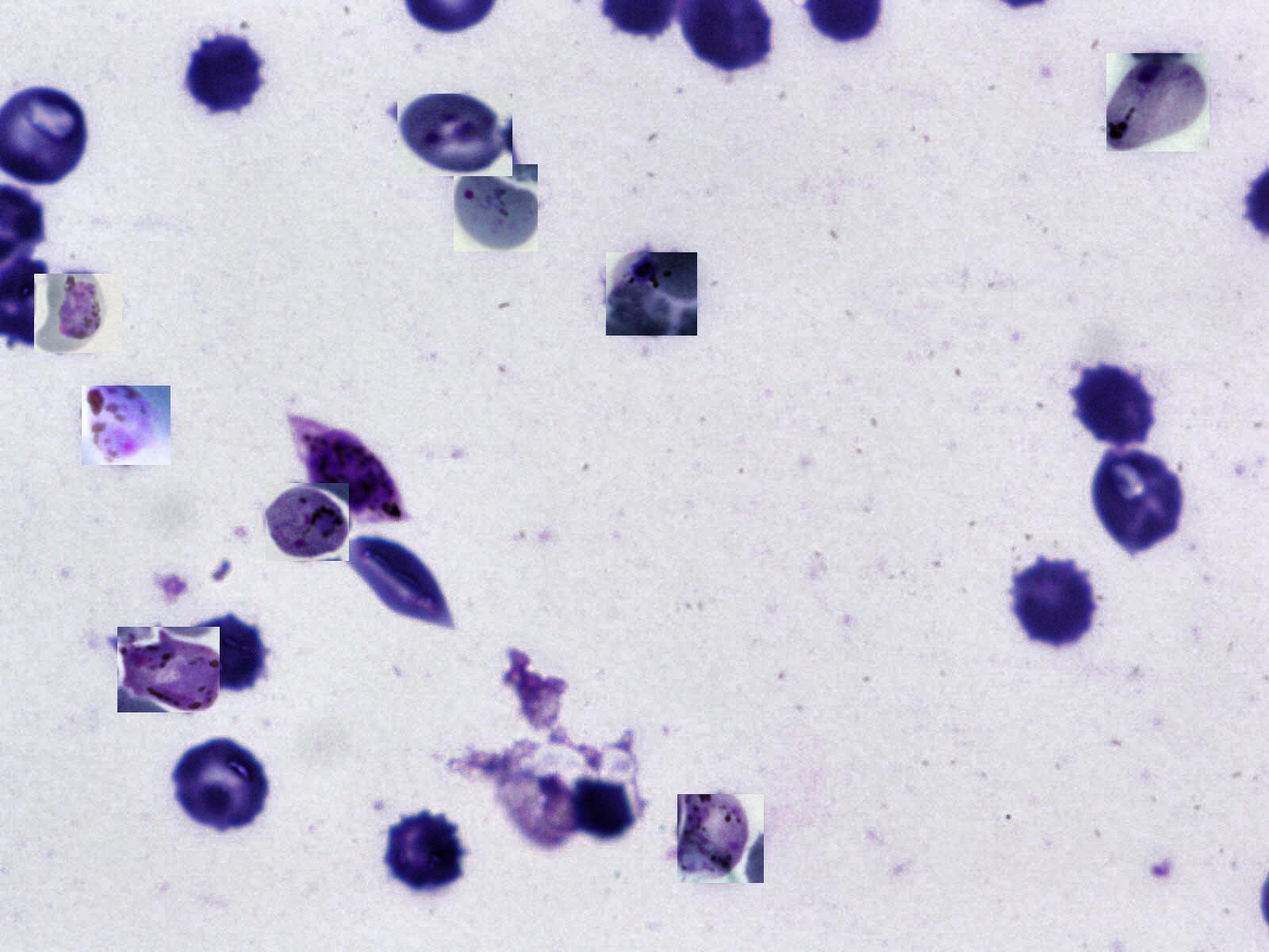Infected: (303, 423, 408, 522), (1106, 53, 1210, 152), (397, 94, 512, 176), (117, 627, 220, 712), (677, 794, 764, 883), (606, 252, 697, 336), (454, 164, 538, 251), (82, 386, 171, 465), (35, 274, 122, 353), (266, 483, 349, 561)
Uninfected: (1091, 444, 1190, 552), (171, 737, 270, 836), (351, 536, 456, 622), (1010, 557, 1097, 645), (384, 813, 470, 895), (182, 33, 268, 114), (1073, 366, 1157, 448), (191, 611, 270, 697), (569, 779, 634, 845)
